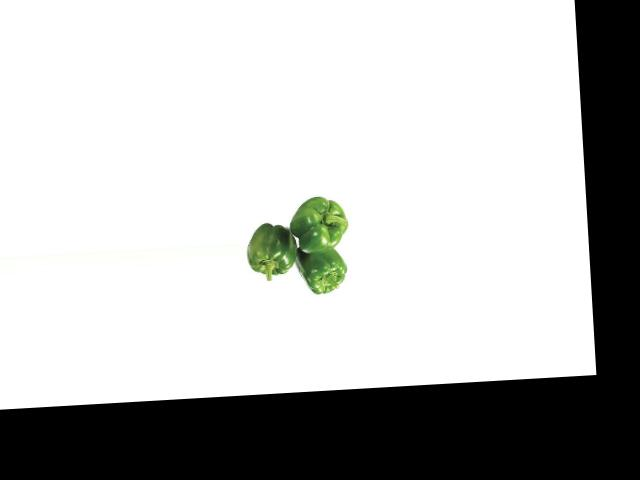bell_pepper: (288, 189, 354, 255)
